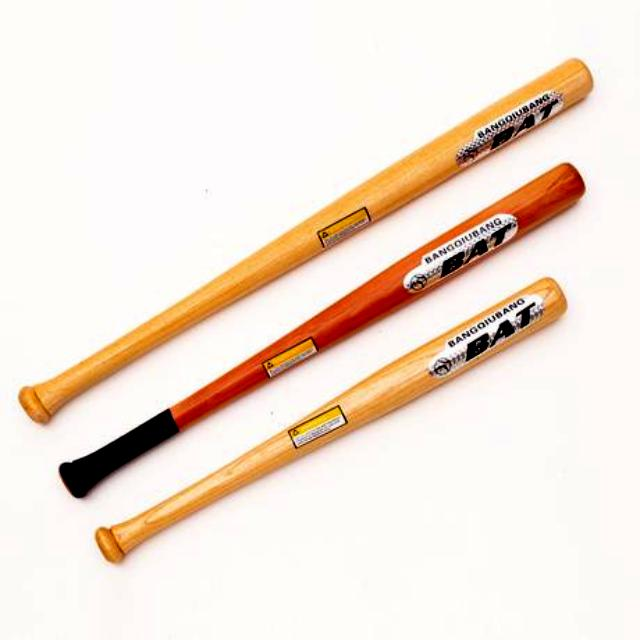baseball bat: (6, 37, 604, 576)
